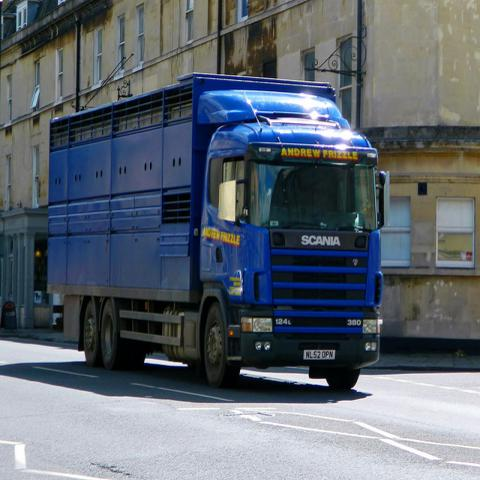truck: (47, 72, 390, 389)
